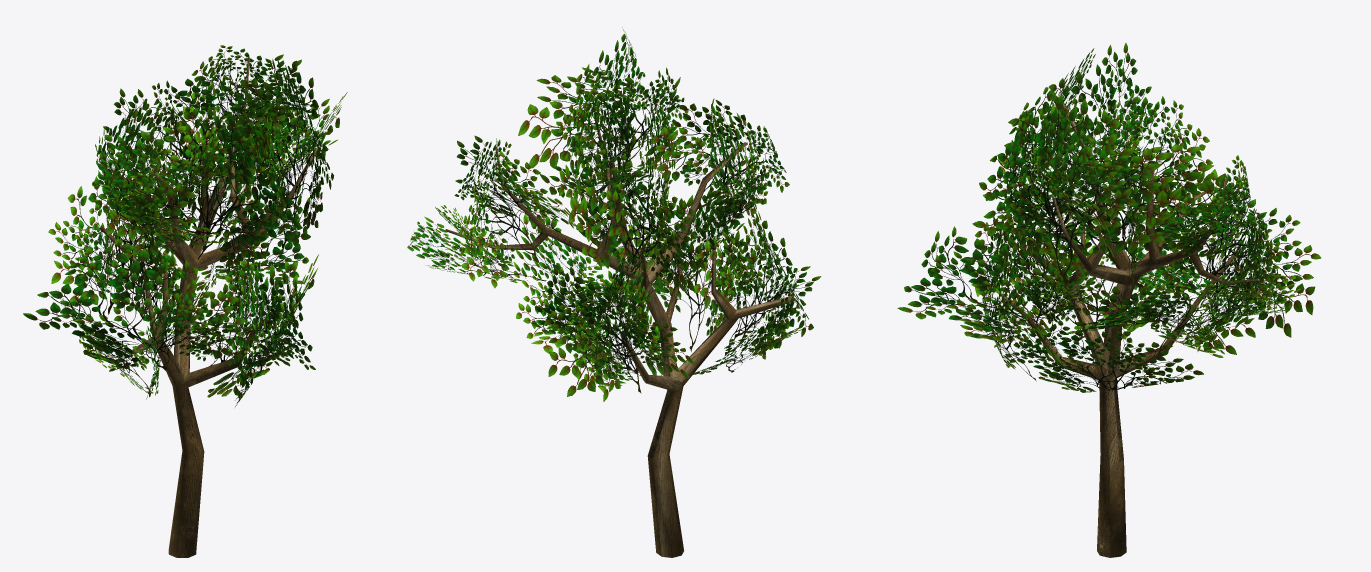
The model's file is green_tree.glb.
3 renders of one model, left to right at view 1: azimuth 30°, elevation 25°; view 2: azimuth 150°, elevation 25°; view 3: azimuth 270°, elevation 25°, orthographic. The views are drawn at different scales.
Parts seen in each view (by area): view 1: tree-stylized-01_tree-branch-stylized-diffuse_0, tree-stylized-01_tree-wood_0; view 2: tree-stylized-01_tree-branch-stylized-diffuse_0, tree-stylized-01_tree-wood_0; view 3: tree-stylized-01_tree-branch-stylized-diffuse_0, tree-stylized-01_tree-wood_0.
Part boxes in pixels (x1,y1,x2,y2): tree-stylized-01_tree-branch-stylized-diffuse_0: [23, 45, 347, 406]; tree-stylized-01_tree-wood_0: [99, 56, 317, 557]; tree-stylized-01_tree-branch-stylized-diffuse_0: [407, 27, 821, 401]; tree-stylized-01_tree-wood_0: [445, 118, 794, 557]; tree-stylized-01_tree-branch-stylized-diffuse_0: [897, 43, 1321, 392]; tree-stylized-01_tree-wood_0: [1000, 102, 1259, 557].
Bounding box in the file's own units: 5.96 × 7.91 × 6.32.
2 materials, 2 textured.
